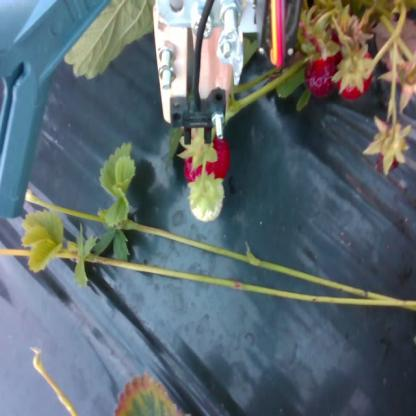ripe: (338, 51, 374, 93), (187, 144, 228, 179), (306, 53, 335, 90)
unripe: (188, 178, 227, 222)
